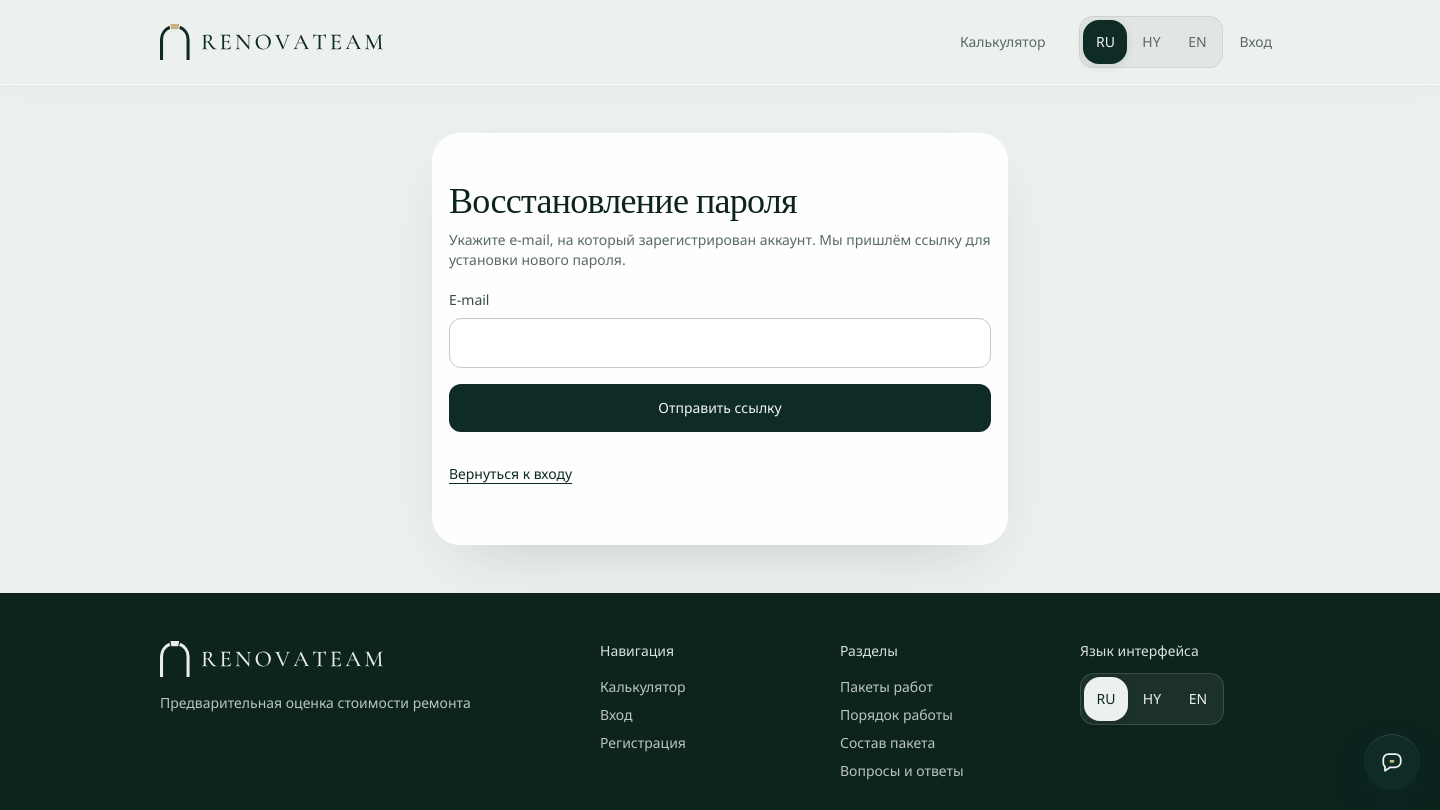
Test case: запрос письма восстановления › после отправки показывает экран «письмо отправлено», не выдавая наличие аккаунта
Type "aram@example.am" into the field labelled "E-mail". click: point(720, 343)
box: [449,318,991,368]
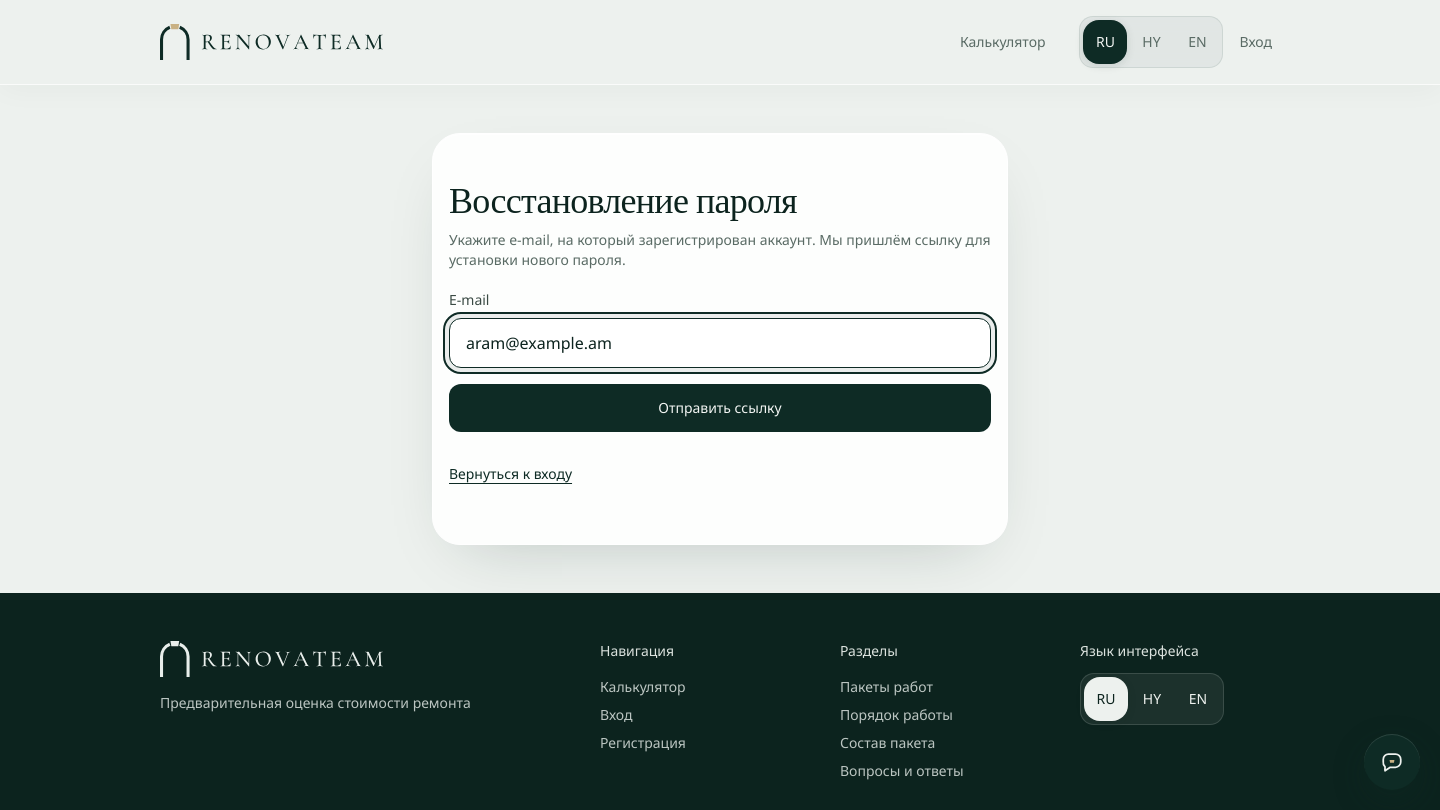
Click the button "Отправить ссылку". click: point(720, 408)
box: [449,384,991,432]
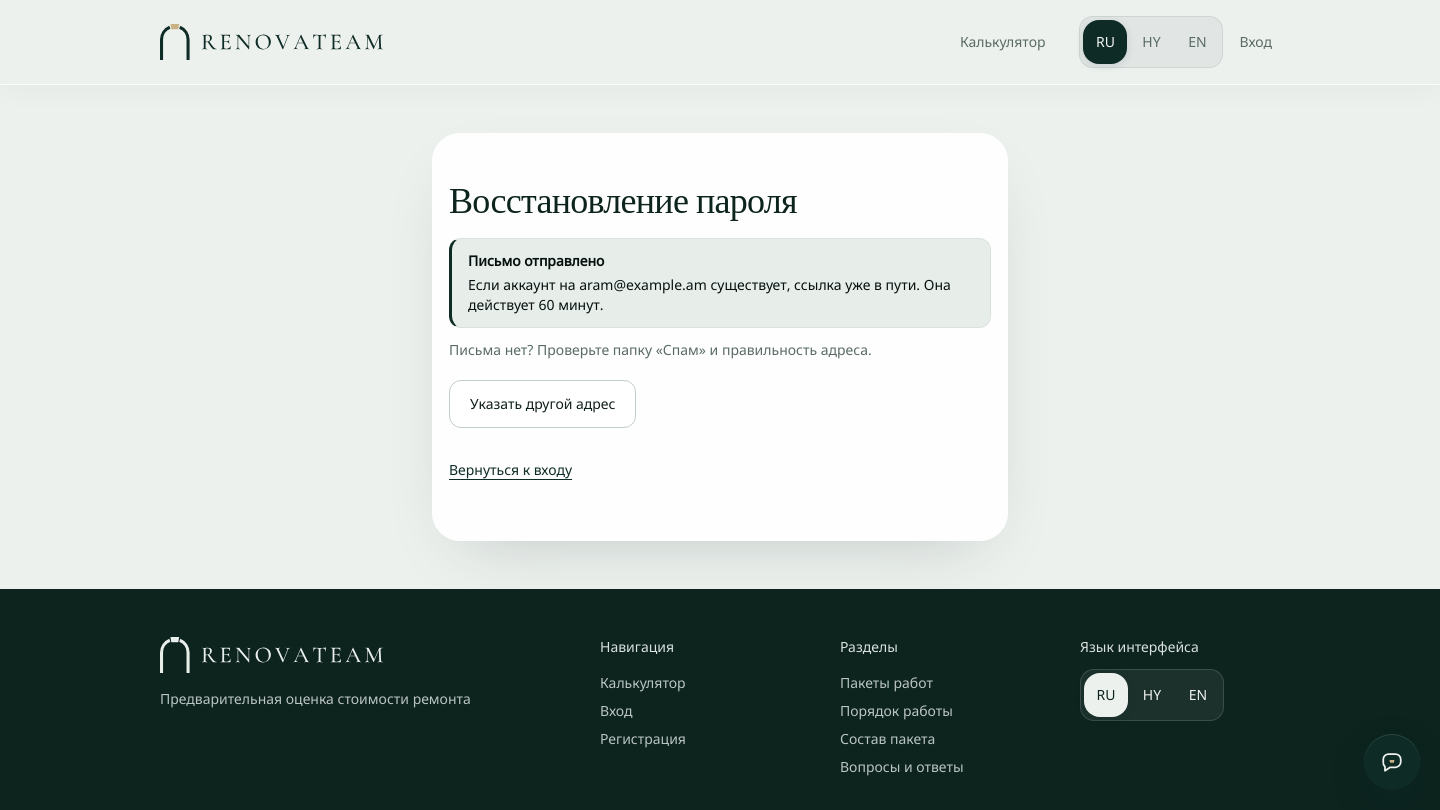
Check: the text "Письмо отправлено" is shown, box [468,251,604,270]
Check: the text "Если аккаунт на aram@example.am существует" is shown, box [468,275,951,314]
